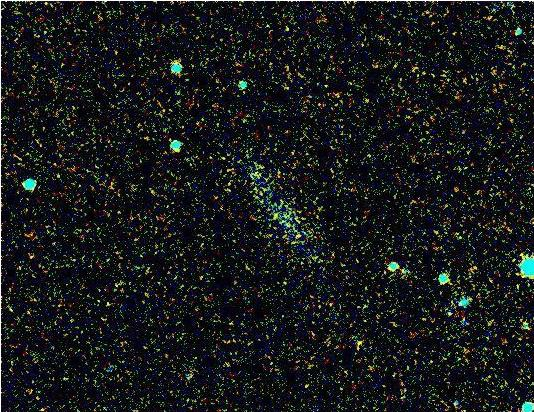star: (341, 328, 371, 358)
